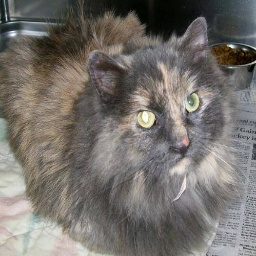cat: (0, 11, 235, 249)
